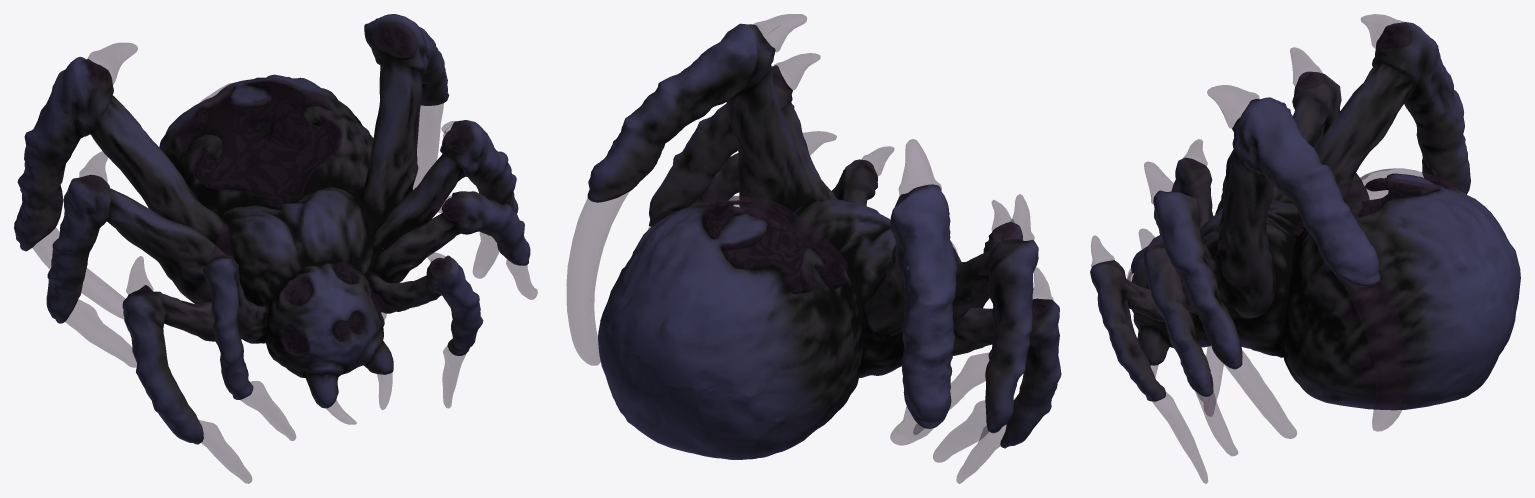
File: Prop - Spider.glb
The picture shows the model from 3 angles, left to right: view 1: azimuth 30°, elevation 25°; view 2: azimuth 150°, elevation 25°; view 3: azimuth 270°, elevation 25°; orthographic projection. The views are drawn at different scales.
Parts seen in each view (by area): view 1: spider; view 2: spider; view 3: spider.
Boxes of the visible parts, x1,y1,x2,y2 form: spider: [14, 14, 537, 483]; spider: [566, 14, 1061, 483]; spider: [1090, 14, 1520, 483].
Bounding box in the file's own units: 0.9347 × 0.8448 × 0.8188.
2 materials, 2 textured.
